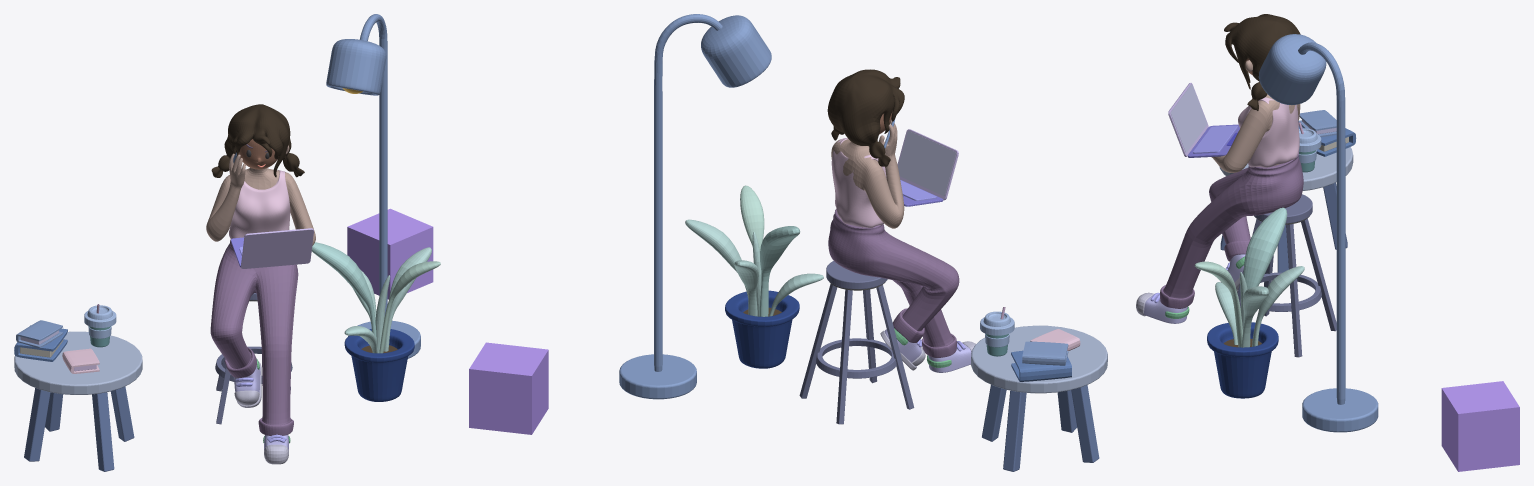
Rendered from iforma_girl_working.glb.
The picture shows the model from 3 angles, left to right: view 1: azimuth 30°, elevation 25°; view 2: azimuth 150°, elevation 25°; view 3: azimuth 270°, elevation 25°; orthographic projection. The views are drawn at different scales.
Size of the model in its own units: 10.36 by 6.95 by 6.67.
